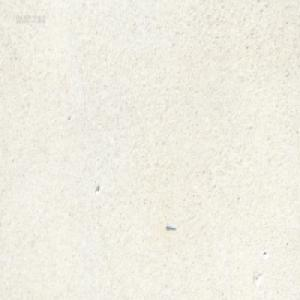Nail: (165, 223, 176, 230)
